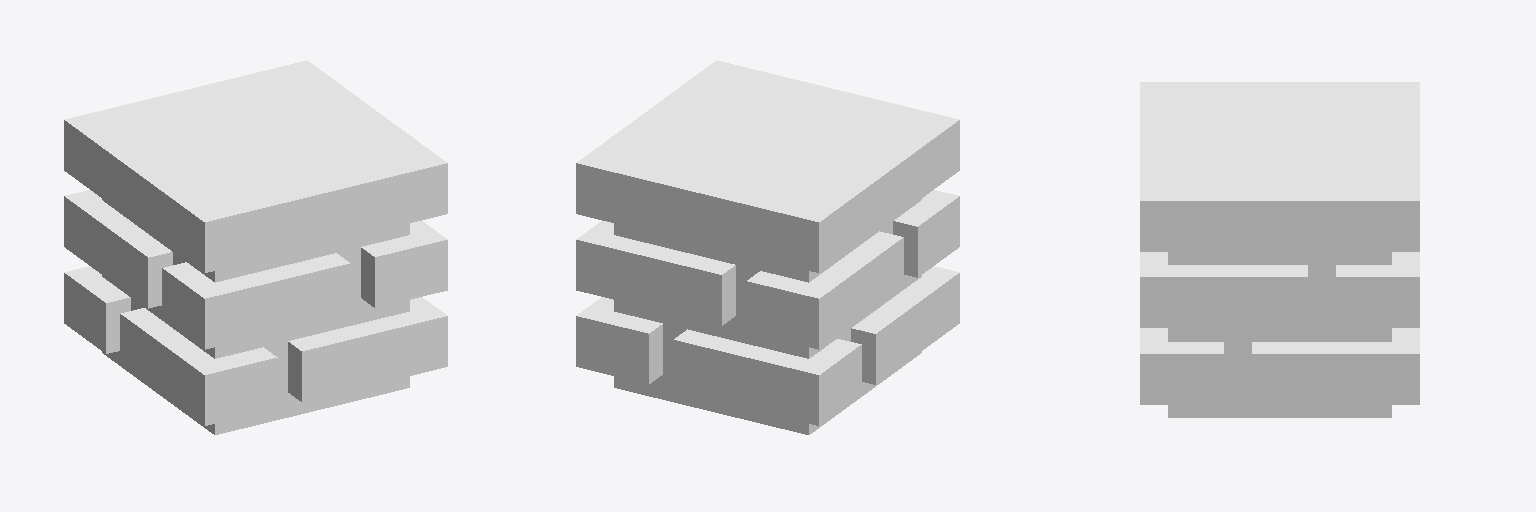
The model's file is WallBrick.obj.
The picture shows the model from 3 angles: view 1: azimuth 30°, elevation 25°; view 2: azimuth 150°, elevation 25°; view 3: azimuth 270°, elevation 25°; orthographic projection.
Parts seen in each view (by area): view 1: object 1; view 2: object 1; view 3: object 1.
Part boxes in pixels (left/top/right/bottom): object 1: left=64, top=60, right=447, bottom=434; object 1: left=576, top=60, right=959, bottom=434; object 1: left=1140, top=82, right=1419, bottom=417.
Size of the model in its own units: 1 by 0.9 by 1.